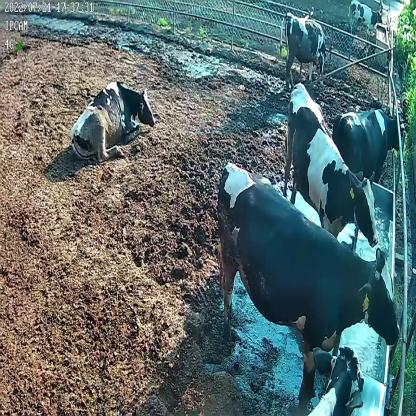cow: (216, 158, 401, 386), (280, 83, 378, 250), (70, 78, 155, 158), (332, 104, 404, 182), (277, 10, 328, 86), (349, 0, 384, 40)
